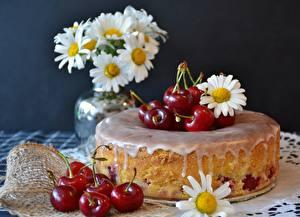chamomile: (174, 178, 238, 216), (90, 57, 141, 93), (60, 33, 101, 76), (125, 8, 179, 40), (204, 73, 240, 117), (87, 15, 138, 43), (121, 48, 160, 80)
